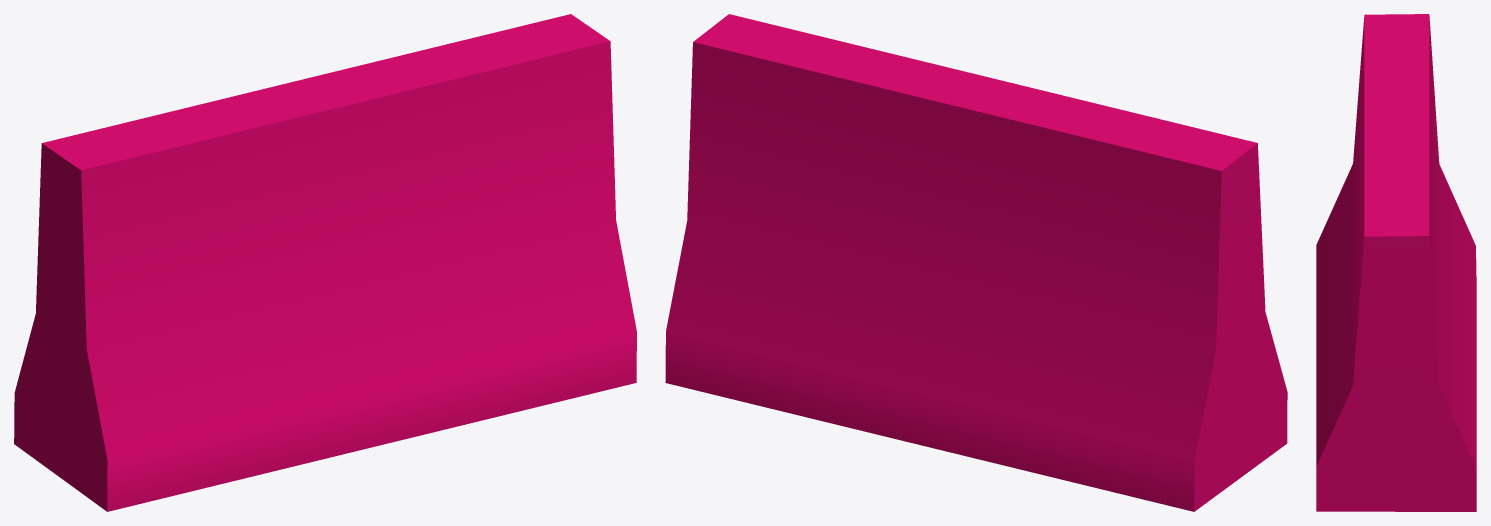
The model's file is Concrete_Blocker_01_Lod0.fbx.
3 renders of one model, left to right at view 1: azimuth 30°, elevation 25°; view 2: azimuth 150°, elevation 25°; view 3: azimuth 270°, elevation 25°, orthographic. The views are drawn at different scales.
Parts seen in each view (by area): view 1: Concrete_Blocker_01_Lod0; view 2: Concrete_Blocker_01_Lod0; view 3: Concrete_Blocker_01_Lod0.
Boxes of the visible parts, left/top/right/bottom form: Concrete_Blocker_01_Lod0: left=14, top=14, right=636, bottom=511; Concrete_Blocker_01_Lod0: left=665, top=14, right=1287, bottom=511; Concrete_Blocker_01_Lod0: left=1316, top=14, right=1476, bottom=511.
Bounding box in the file's own units: 97.12 × 56.11 × 29.57.
